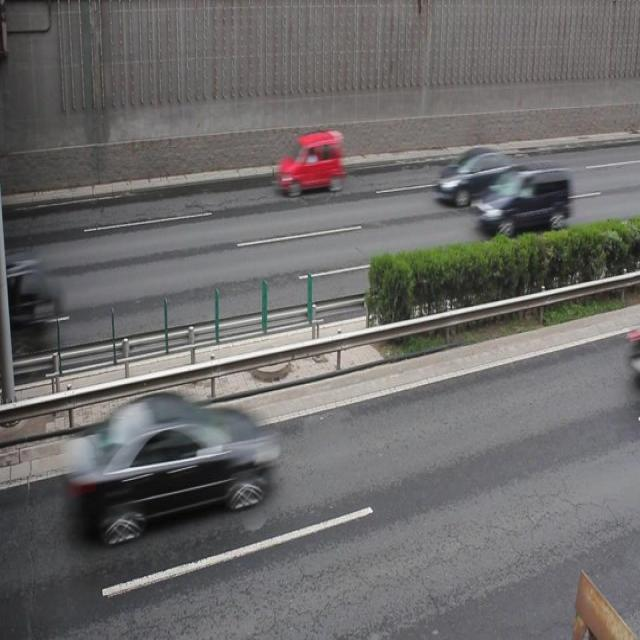car: (84, 391, 274, 537), (434, 149, 526, 209), (274, 132, 342, 196)
truck: (474, 165, 571, 238)
